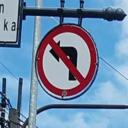NoVirarEsquerda: (34, 21, 101, 100)
